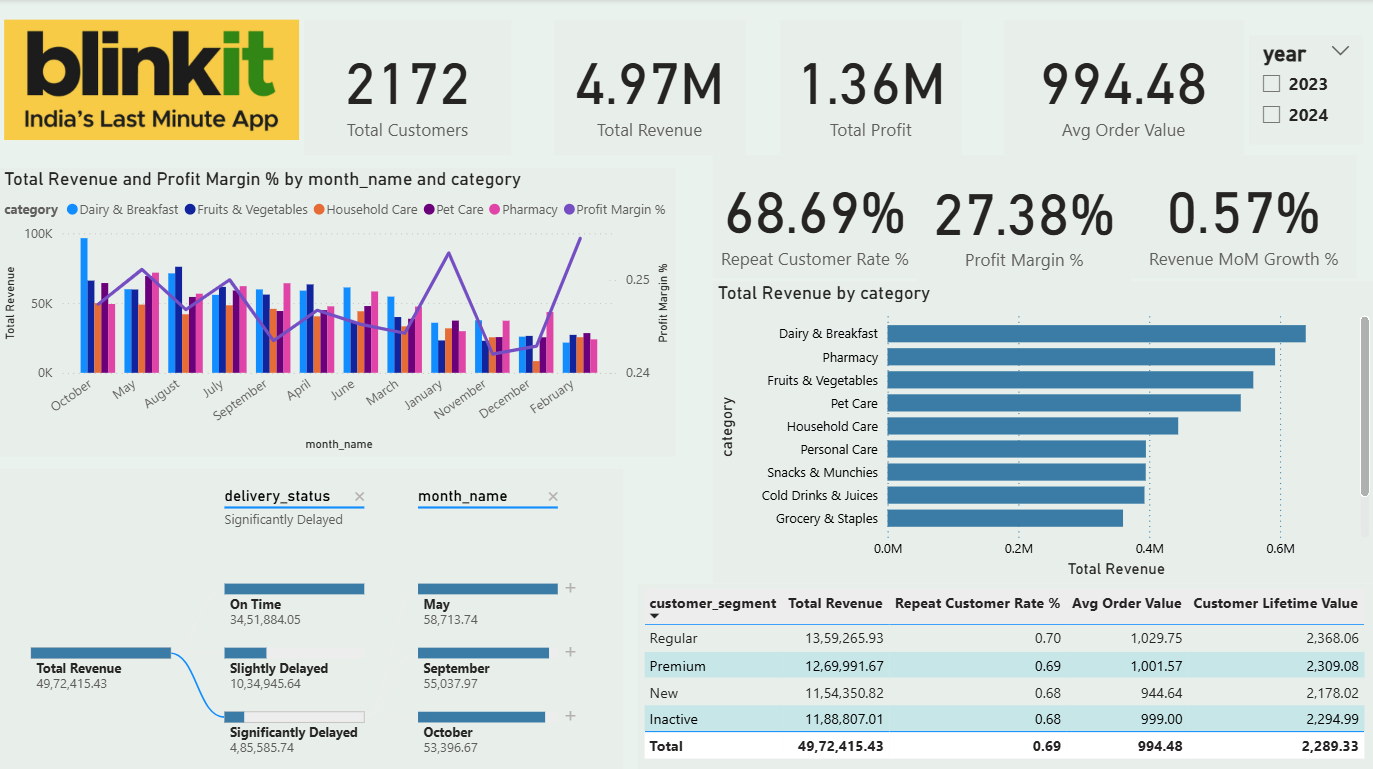

This screenshot's page, from the dashboard's own definition file:
{"tool":"powerbi","page":{"name":"Page 1","canvas":[1280,720],"ordinal":0},"visuals":[{"type":"card","fields":{"Values":["public dim_customer.Total Customers"]},"box":[283.6,20.3,193.1,125.6],"z":0},{"type":"card","fields":{"Values":["public dim_customer.Total Profit"]},"box":[726.6,20.3,168.8,125.6],"z":1000},{"type":"card","fields":{"Values":["public dim_customer.Profit Margin %"]},"box":[854.9,145.9,198.5,117.5],"z":2000},{"type":"card","fields":{"Values":["public dim_customer.Avg Order Value"]},"box":[934.5,20.3,222.8,125.6],"z":3000},{"type":"barChart","fields":{"Category":["public dim_product.category"],"Y":["public dim_customer.Total Revenue"]},"box":[664.4,263.3,615.8,280.9],"z":4000},{"type":"slicer","fields":{"Values":["public dim_date.year"]},"box":[1162.8,33.8,106.7,101.3],"z":5000},{"type":"lineClusteredColumnComboChart","fields":{"Category":["public dim_date.month_name"],"Y":["public dim_customer.Total Revenue"],"Y2":["public dim_customer.Profit Margin %"],"Series":["public dim_product.category"]},"box":[0,156.7,629.3,268.7],"z":6000},{"type":"card","fields":{"Values":["public dim_customer.Repeat Customer Rate %"]},"box":[664.4,145.9,190.4,114.8],"z":7000},{"type":"decompositionTreeVisual","fields":{"Analyze":["public dim_customer.Total Revenue"],"ExplainBy":["public dim_delivery.delivery_status","public dim_date.month_name","public dim_product.category","public dim_customer.customer_segment","public dim_product.product_name"]},"box":[0,437.6,580.7,282.3],"z":8000},{"type":"tableEx","fields":{"Values":["public dim_customer.customer_segment","public dim_customer.Total Revenue","public dim_customer.Repeat Customer Rate %","public dim_customer.Avg Order Value","public dim_customer.Customer Lifetime Value"]},"box":[594.2,544.3,686.1,175.6],"z":9000},{"type":"card","fields":{"Values":["public dim_customer.Revenue MoM Growth %"]},"box":[1053.4,145.9,209.3,114.8],"z":10000},{"type":"card","fields":{"Values":["public dim_customer.Total Revenue"]},"box":[515.9,20.3,178.3,125.6],"z":11000},{"type":"image","box":[0,0,284,150],"z":12000}]}

Visuals, with their boxes in screenshot pixels (x1, y1, x2, y2), scaled from the page's 1280x720 canvas onto the 1373x769 screenshot:
card - public dim_customer.Total Customers: {"left": 304, "top": 22, "right": 511, "bottom": 156}
card - public dim_customer.Total Profit: {"left": 779, "top": 22, "right": 960, "bottom": 156}
card - public dim_customer.Profit Margin %: {"left": 917, "top": 156, "right": 1130, "bottom": 281}
card - public dim_customer.Avg Order Value: {"left": 1002, "top": 22, "right": 1241, "bottom": 156}
barChart - public dim_product.category x public dim_customer.Total Revenue: {"left": 713, "top": 281, "right": 1372, "bottom": 581}
slicer - public dim_date.year: {"left": 1247, "top": 36, "right": 1362, "bottom": 144}
lineClusteredColumnComboChart - public dim_date.month_name x public dim_customer.Total Revenue: {"left": 0, "top": 167, "right": 675, "bottom": 454}
card - public dim_customer.Repeat Customer Rate %: {"left": 713, "top": 156, "right": 917, "bottom": 278}
decompositionTreeVisual - public dim_customer.Total Revenue x public dim_delivery.delivery_status: {"left": 0, "top": 467, "right": 623, "bottom": 768}
tableEx - public dim_customer.customer_segment x public dim_customer.Total Revenue: {"left": 637, "top": 581, "right": 1372, "bottom": 768}
card - public dim_customer.Revenue MoM Growth %: {"left": 1130, "top": 156, "right": 1354, "bottom": 278}
card - public dim_customer.Total Revenue: {"left": 553, "top": 22, "right": 745, "bottom": 156}
image: {"left": 0, "top": 0, "right": 305, "bottom": 160}
